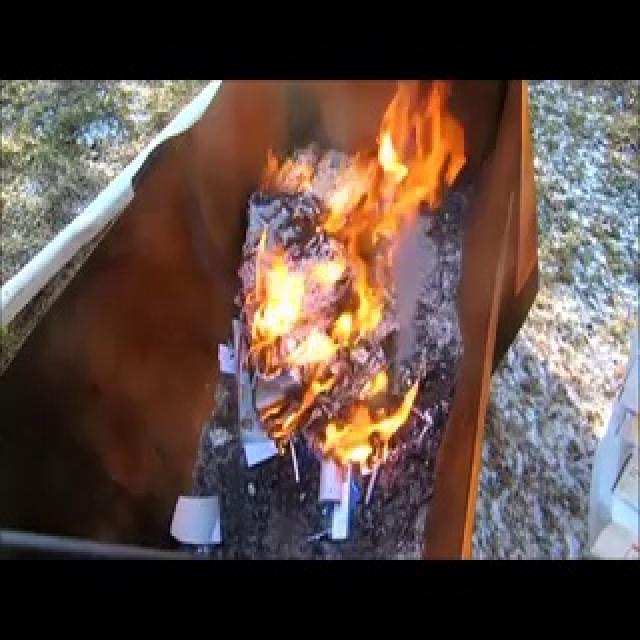fire: (235, 80, 455, 467)
